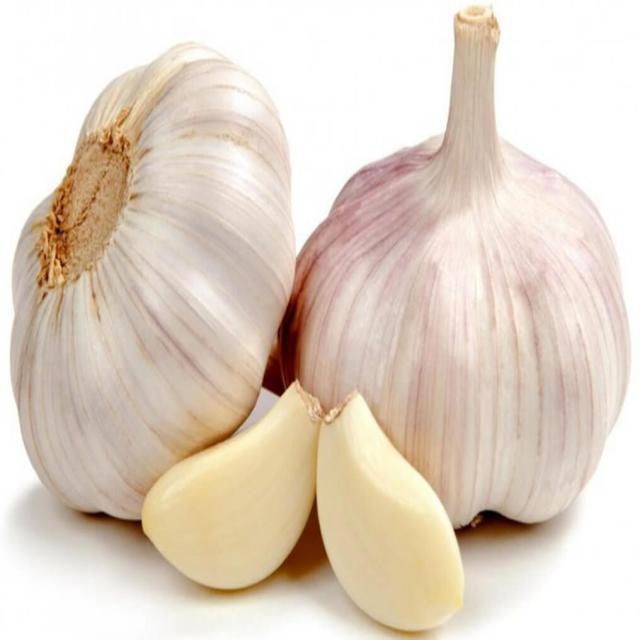garlic: (297, 94, 632, 543), (7, 26, 292, 531)
